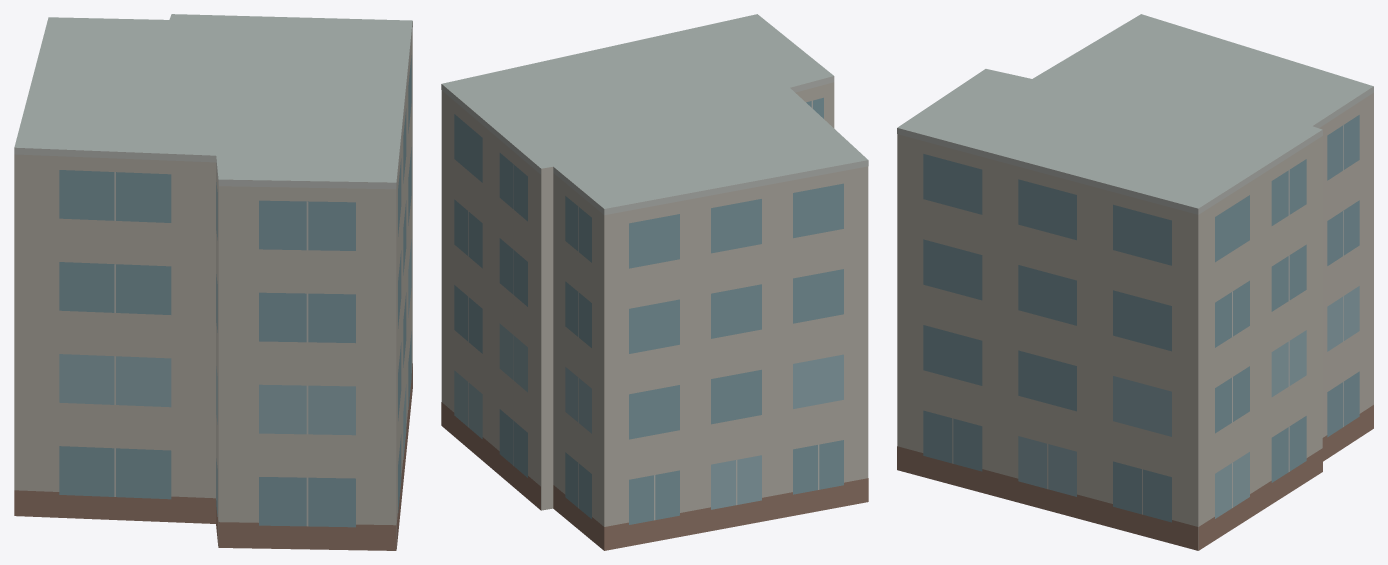
File: survey-upis-32610236.glb
3 renders of one model, left to right at view 1: azimuth 30°, elevation 25°; view 2: azimuth 150°, elevation 25°; view 3: azimuth 270°, elevation 25°, orthographic. The views are drawn at different scales.
Visible parts, largest first — view 1: survey-upis-32610236.tmp; view 2: survey-upis-32610236.tmp; view 3: survey-upis-32610236.tmp.
Boxes of the visible parts, x1,y1,x2,y2 form: survey-upis-32610236.tmp: (14, 14, 412, 550); survey-upis-32610236.tmp: (441, 14, 868, 550); survey-upis-32610236.tmp: (897, 14, 1373, 550).
Size of the model in its own units: 16.29 by 13.35 by 16.86.
